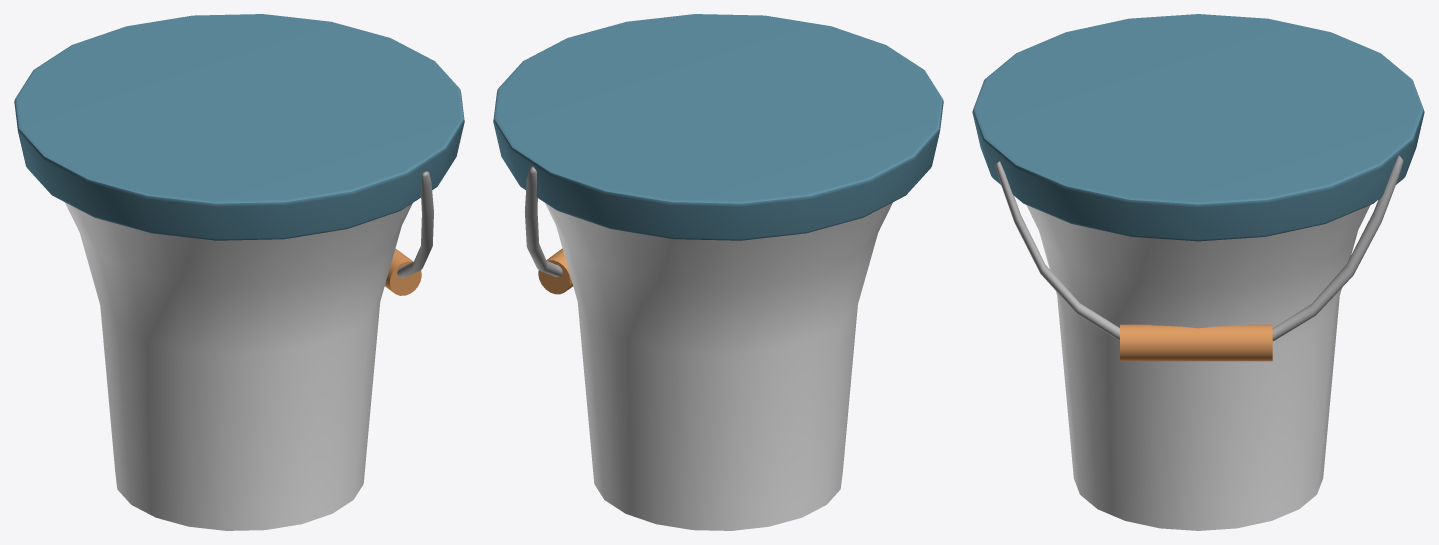
Rendered from Fishing Bucket.fbx.
The picture shows the model from 3 angles, left to right: view 1: azimuth 30°, elevation 25°; view 2: azimuth 150°, elevation 25°; view 3: azimuth 270°, elevation 25°; orthographic projection.
Parts seen in each view (by area): view 1: pCylinder9; view 2: pCylinder9; view 3: pCylinder9.
Part boxes in pixels (box(x1,y1,x2,y2)): pCylinder9: box(14, 14, 464, 530); pCylinder9: box(493, 14, 943, 530); pCylinder9: box(972, 14, 1424, 530).
Bounding box in the file's own units: 47.09 × 42.55 × 47.09.
